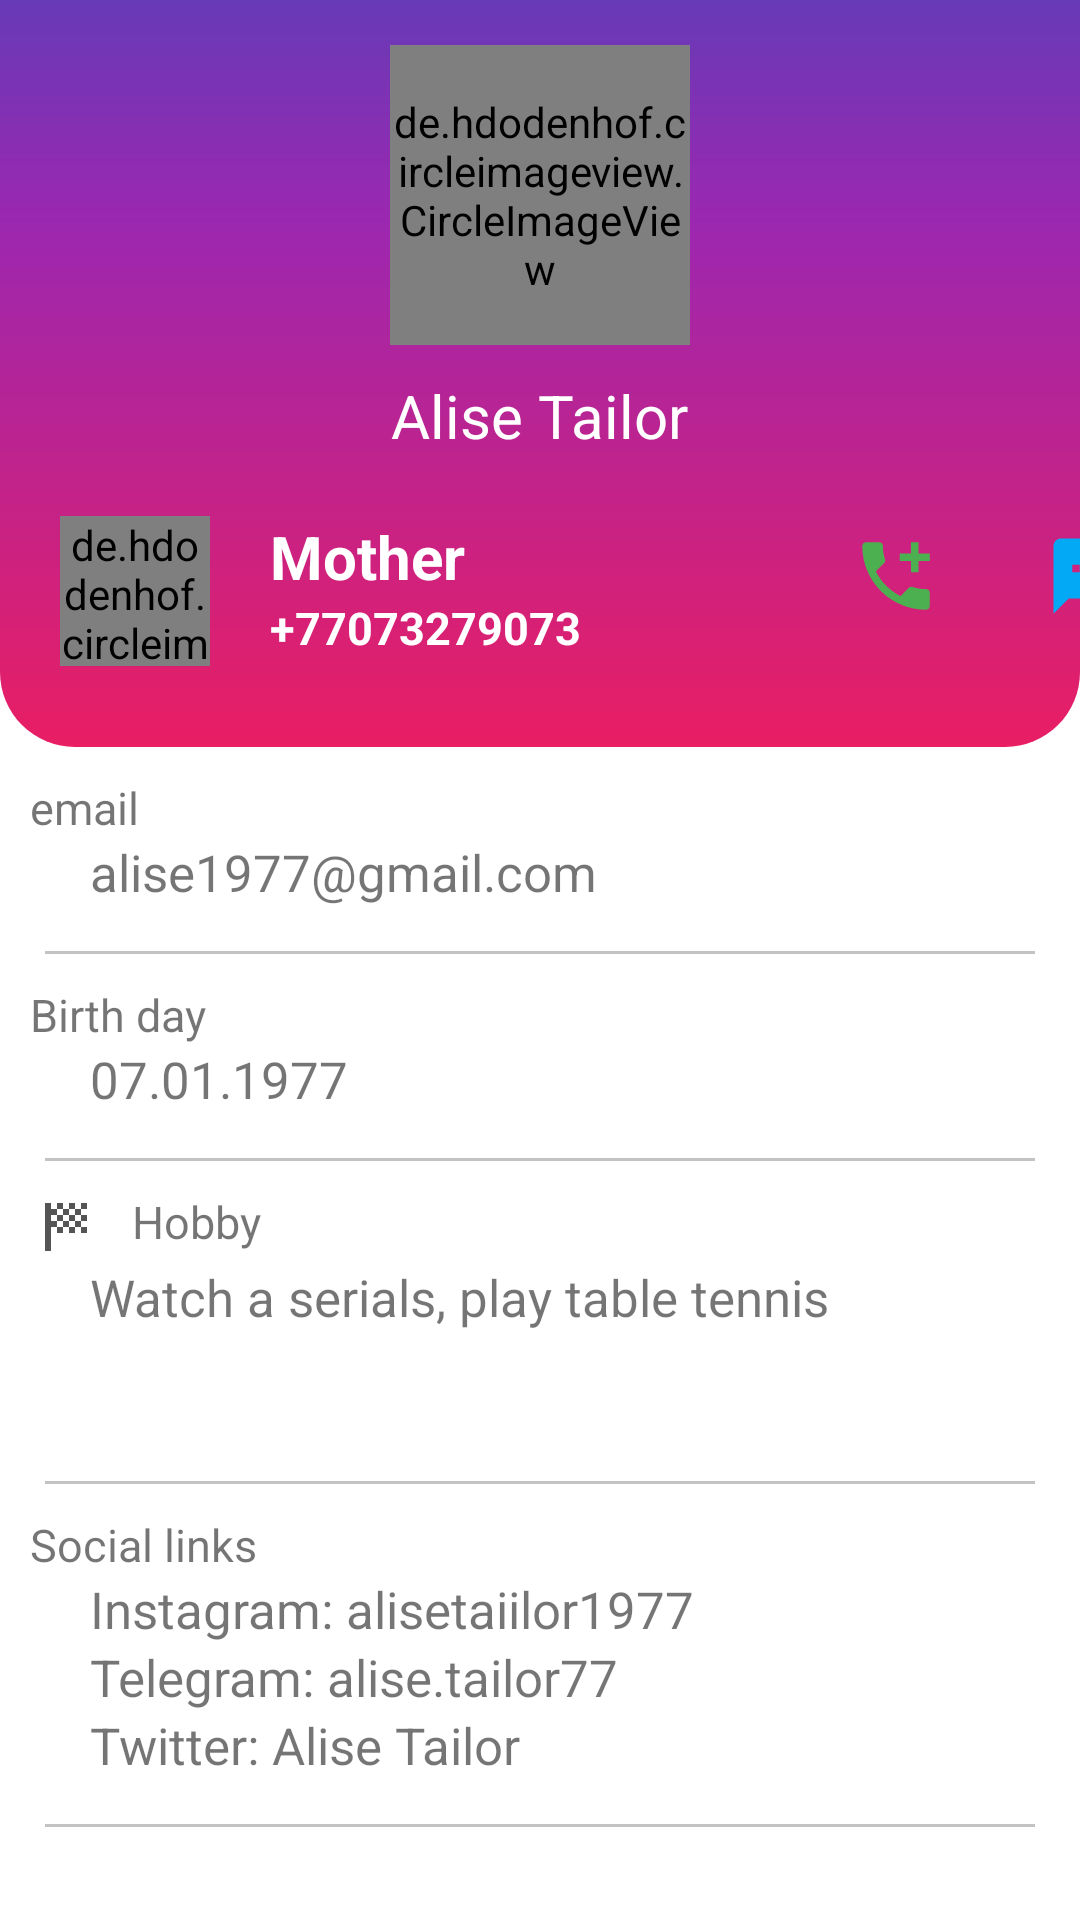

Icons on this 1080x1920 Android screen, each with the point to tap as (x,y):
call: (896,576)
